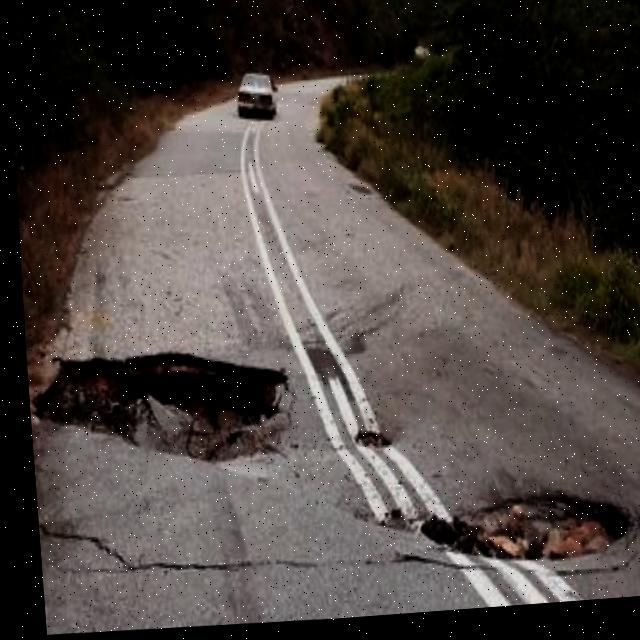Pothole: (20, 330, 290, 478), (406, 483, 634, 583), (341, 426, 390, 458)
